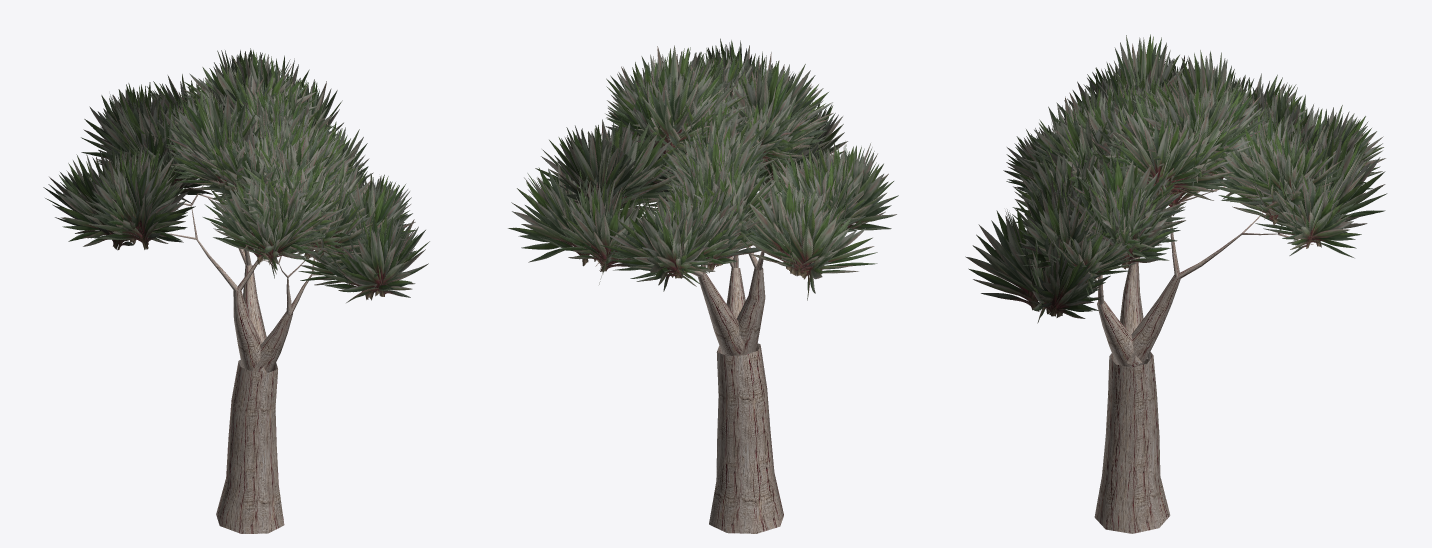
Rendered from nature-red-dragonblood-tree_v2.glb.
The picture shows the model from 3 angles, left to right: view 1: azimuth 30°, elevation 25°; view 2: azimuth 150°, elevation 25°; view 3: azimuth 270°, elevation 25°; orthographic projection. The views are drawn at different scales.
Visible parts, largest first — view 1: nature-red-dragonblood-tree; view 2: nature-red-dragonblood-tree; view 3: nature-red-dragonblood-tree.
Part boxes in pixels (box(x1,y1,x2,y2)): nature-red-dragonblood-tree: box(43, 48, 429, 533); nature-red-dragonblood-tree: box(508, 38, 898, 533); nature-red-dragonblood-tree: box(965, 34, 1387, 533).
Size of the model in its own units: 5.65 by 7.29 by 6.31.
2 materials, 2 textured.
